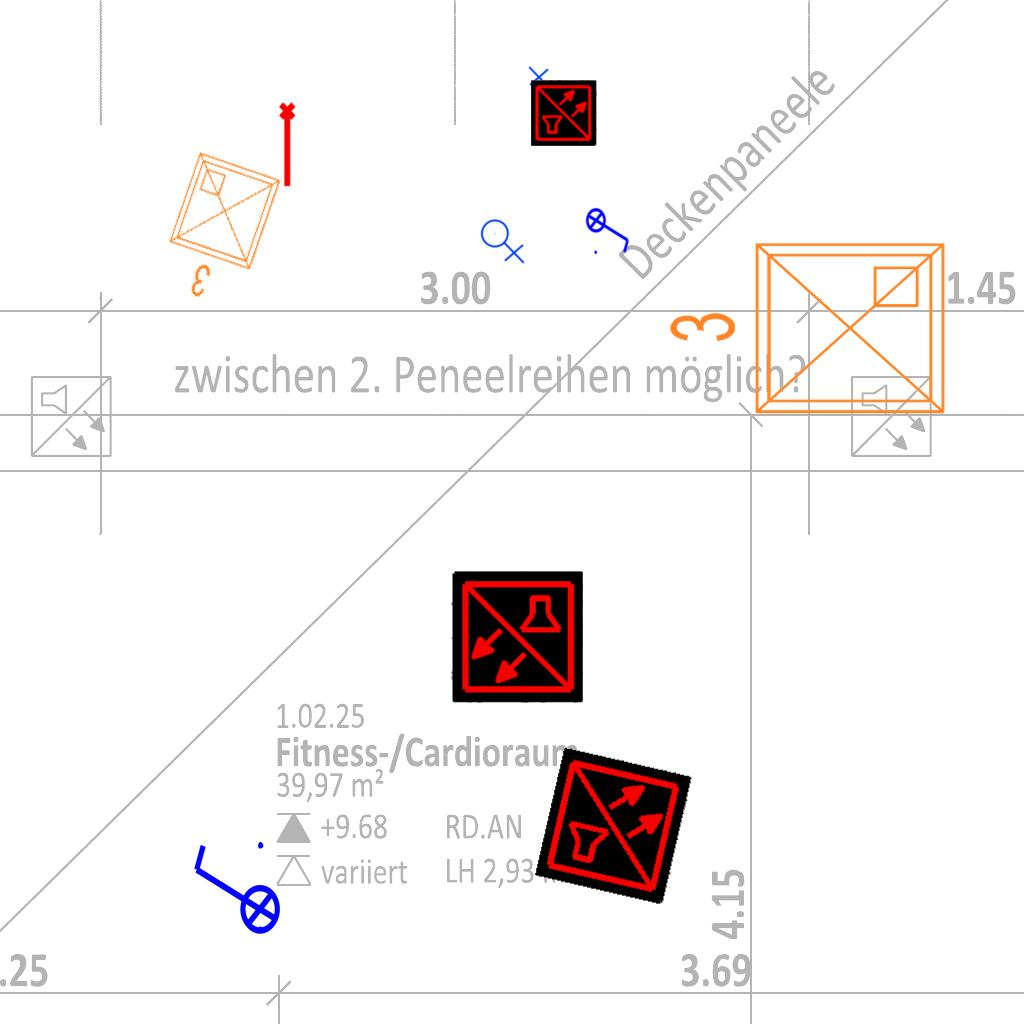ASR_Ansaugoeffnung: (277, 101, 300, 189)
Ausschalter_beleuchtet: (186, 836, 282, 948), (585, 201, 633, 257)
Einbaudownlights_LED_Konferenzraeume: (659, 228, 959, 436), (146, 143, 294, 319)
Elektroanschluss_allgemein_230V_Geraeteanschlussdose_230V: (480, 215, 527, 264), (526, 66, 573, 115)
OKW_Multisensormelder_(Kombination_optischer_Rauch-Kahlenmonoxid_Waerme-Melder): (534, 746, 694, 906), (451, 571, 583, 703), (531, 80, 597, 146)
